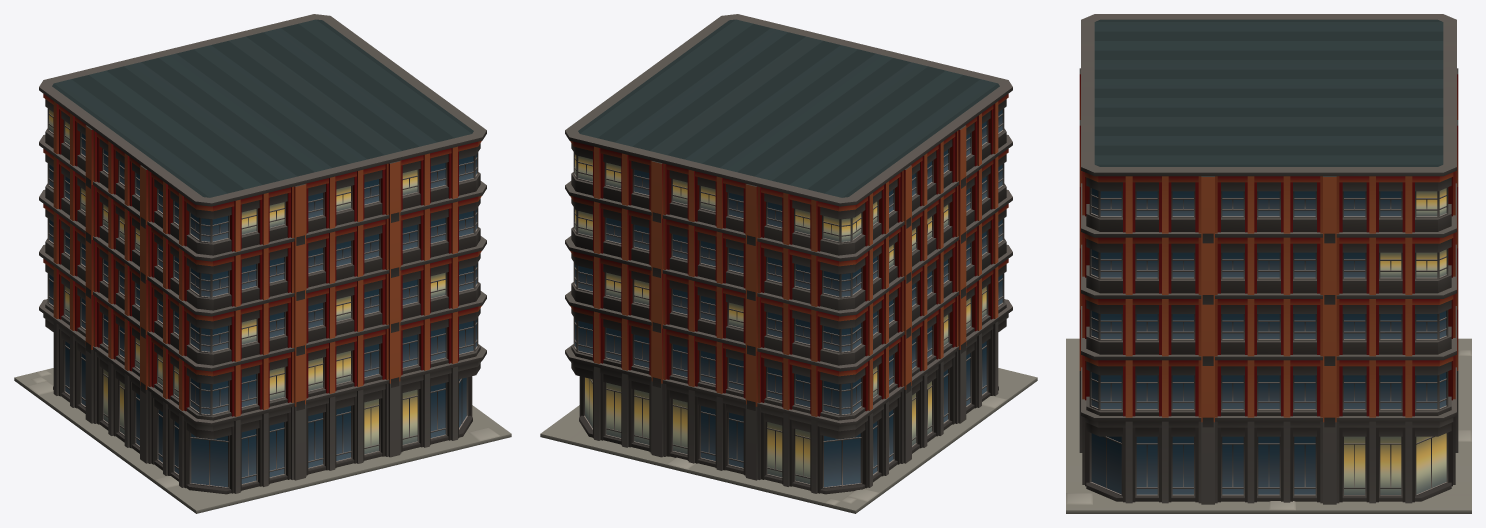
Rendered from Building_14B.fbx.
3 views of the same model, side by side, from view 1: azimuth 30°, elevation 25°; view 2: azimuth 150°, elevation 25°; view 3: azimuth 270°, elevation 25° (orthographic). The views are drawn at different scales.
Visible parts, largest first — view 1: Building_14B, Window_Lights_14B; view 2: Building_14B, Window_Lights_14B; view 3: Building_14B, Window_Lights_14B.
Boxes of the visible parts, x1,y1,x2,y2 form: Building_14B: [14, 14, 511, 513]; Window_Lights_14B: [49, 109, 445, 454]; Building_14B: [540, 14, 1037, 513]; Window_Lights_14B: [575, 154, 986, 483]; Building_14B: [1066, 14, 1471, 513]; Window_Lights_14B: [1344, 188, 1446, 494].
Bounding box in the file's own units: 3000 × 2730 × 3000.
